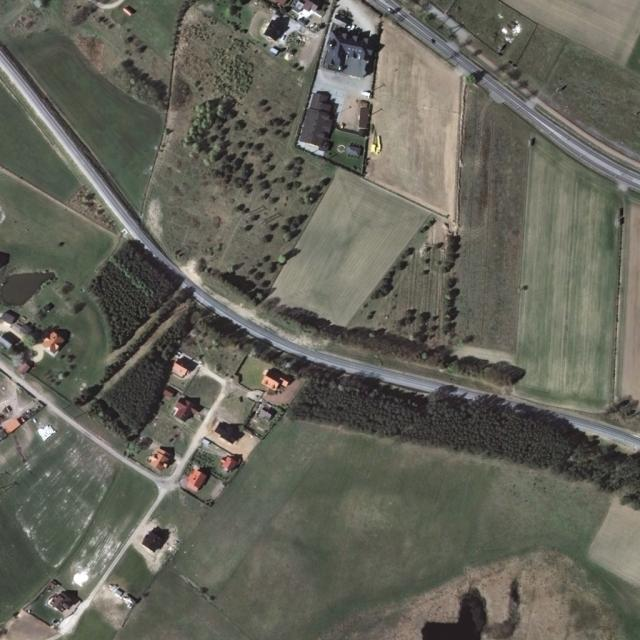building: (158, 366, 291, 510), (127, 361, 224, 483), (167, 435, 243, 519), (0, 371, 45, 440), (0, 310, 36, 374), (0, 310, 35, 374), (167, 384, 209, 428), (250, 360, 296, 398), (34, 322, 72, 362), (35, 321, 73, 359)
greenland: (116, 420, 613, 639), (275, 343, 640, 508)
metalled_road: (0, 46, 446, 450)
unmetalled_road: (18, 400, 195, 539), (60, 528, 141, 635), (190, 419, 212, 446), (20, 378, 46, 400), (0, 359, 20, 385)
